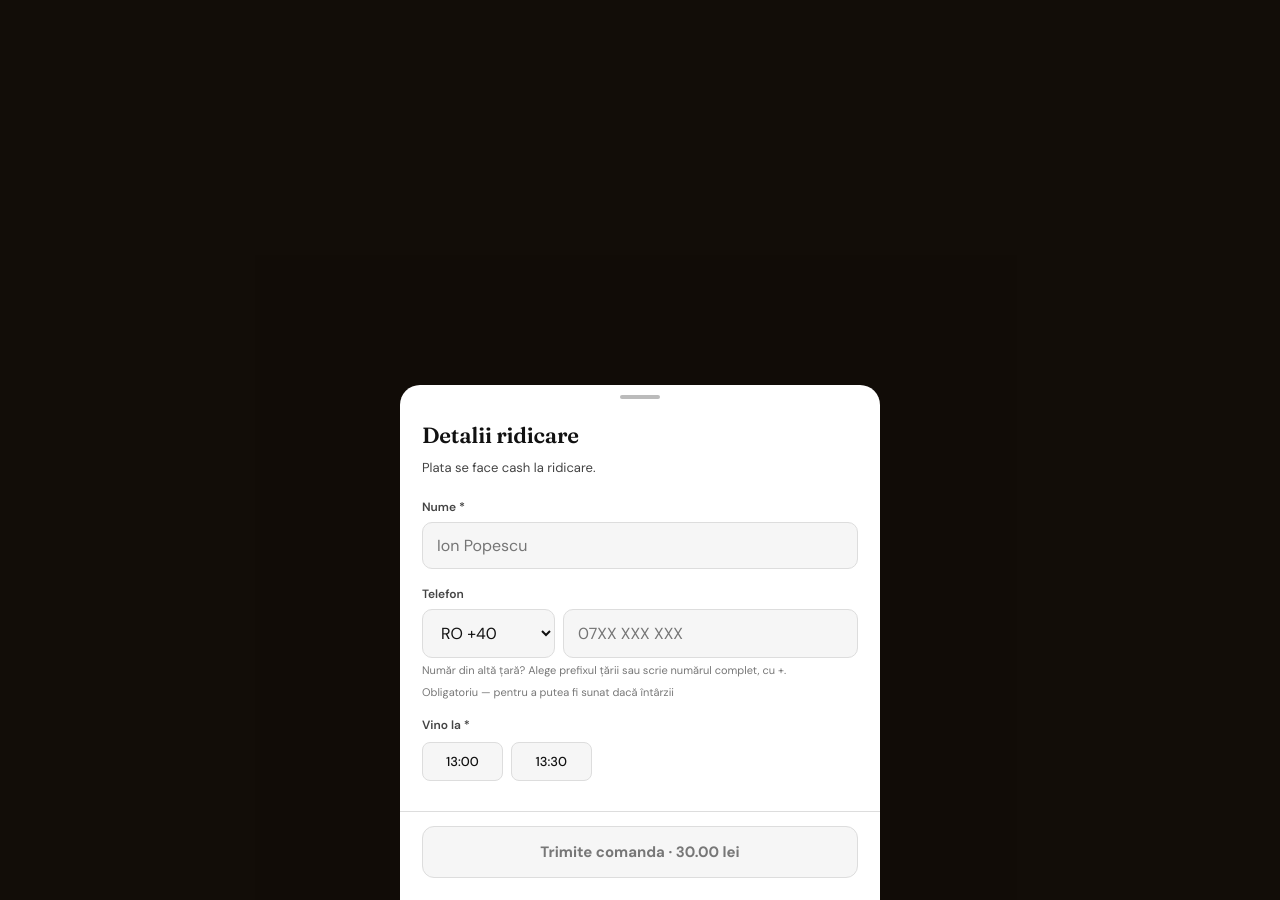
it: PickupCheckoutSheet — selecție și eroare accesibile › S11 slotul ales are aria-pressed + bifă; eroarea e role=alert
The image size is (1280, 900).
Click the button "13:00" at [462, 762], box x1=422 y1=742 x2=503 y2=781
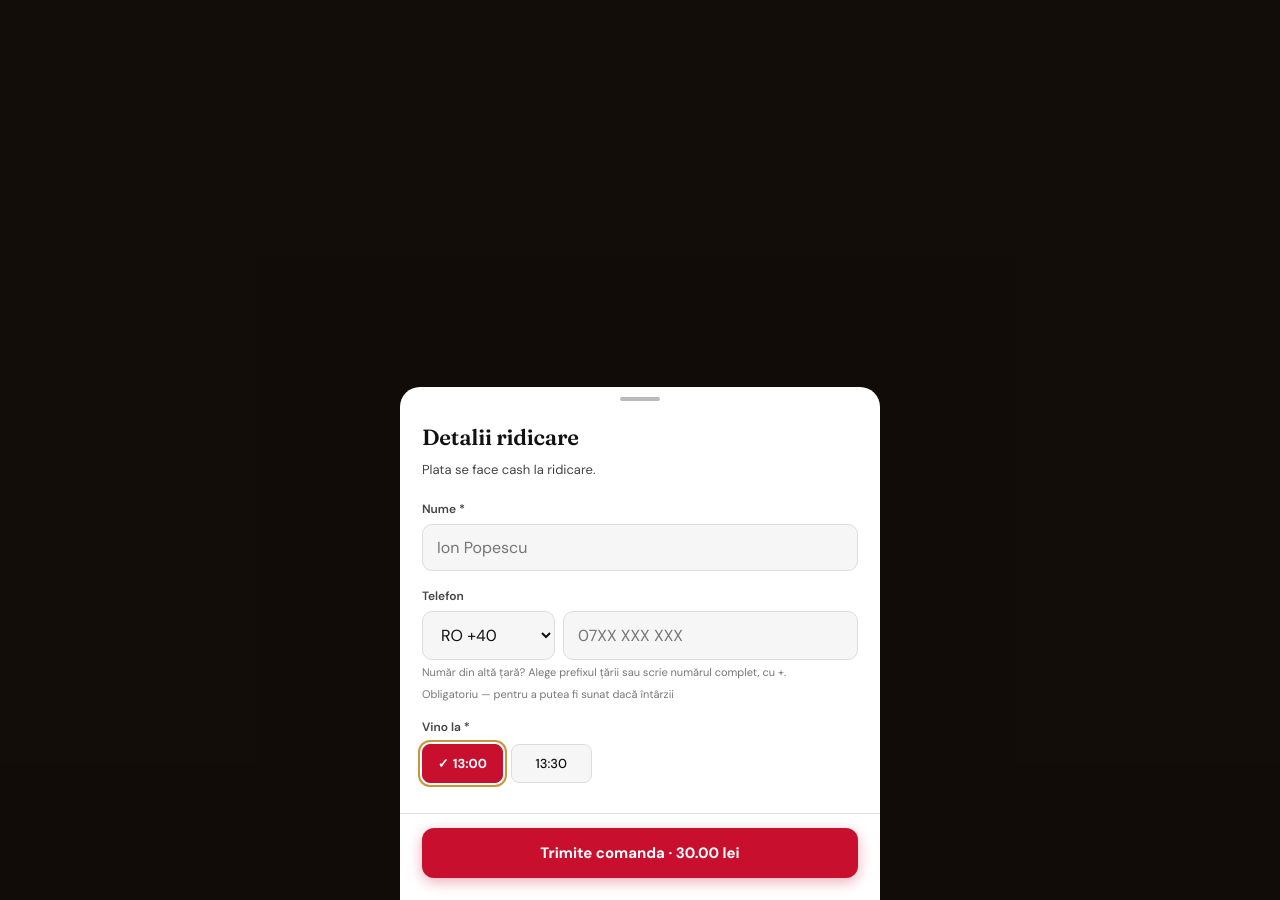
Expected: the button "✓13:00" is shown, x1=422 y1=744 x2=503 y2=783
# Fără nume → eroare locală, fără server.
Click the button "Trimite comanda · 30.00 lei" at [640, 853], box x1=422 y1=828 x2=858 y2=878
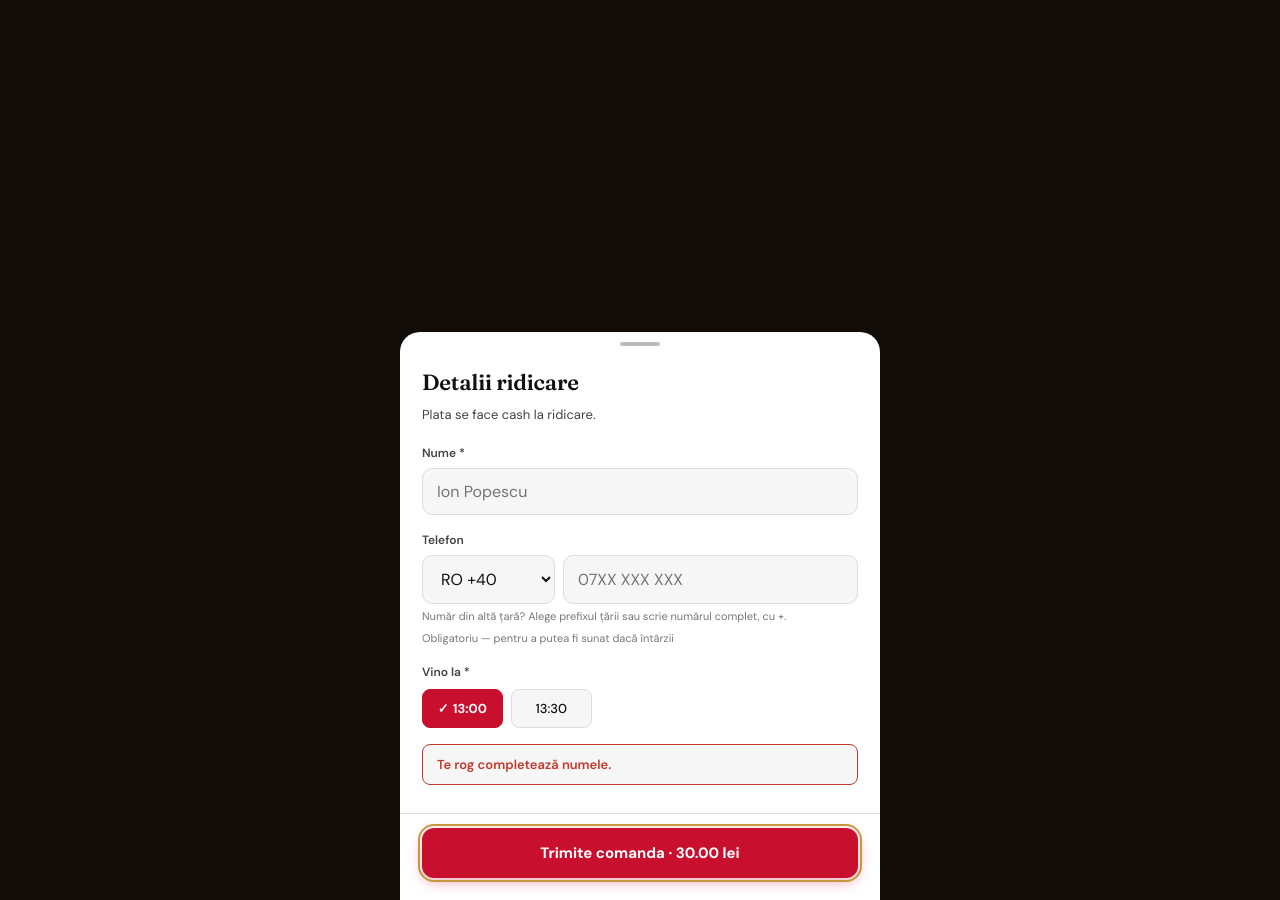
Expected: the message "Te rog completează numele." is shown, x1=422 y1=744 x2=858 y2=785
